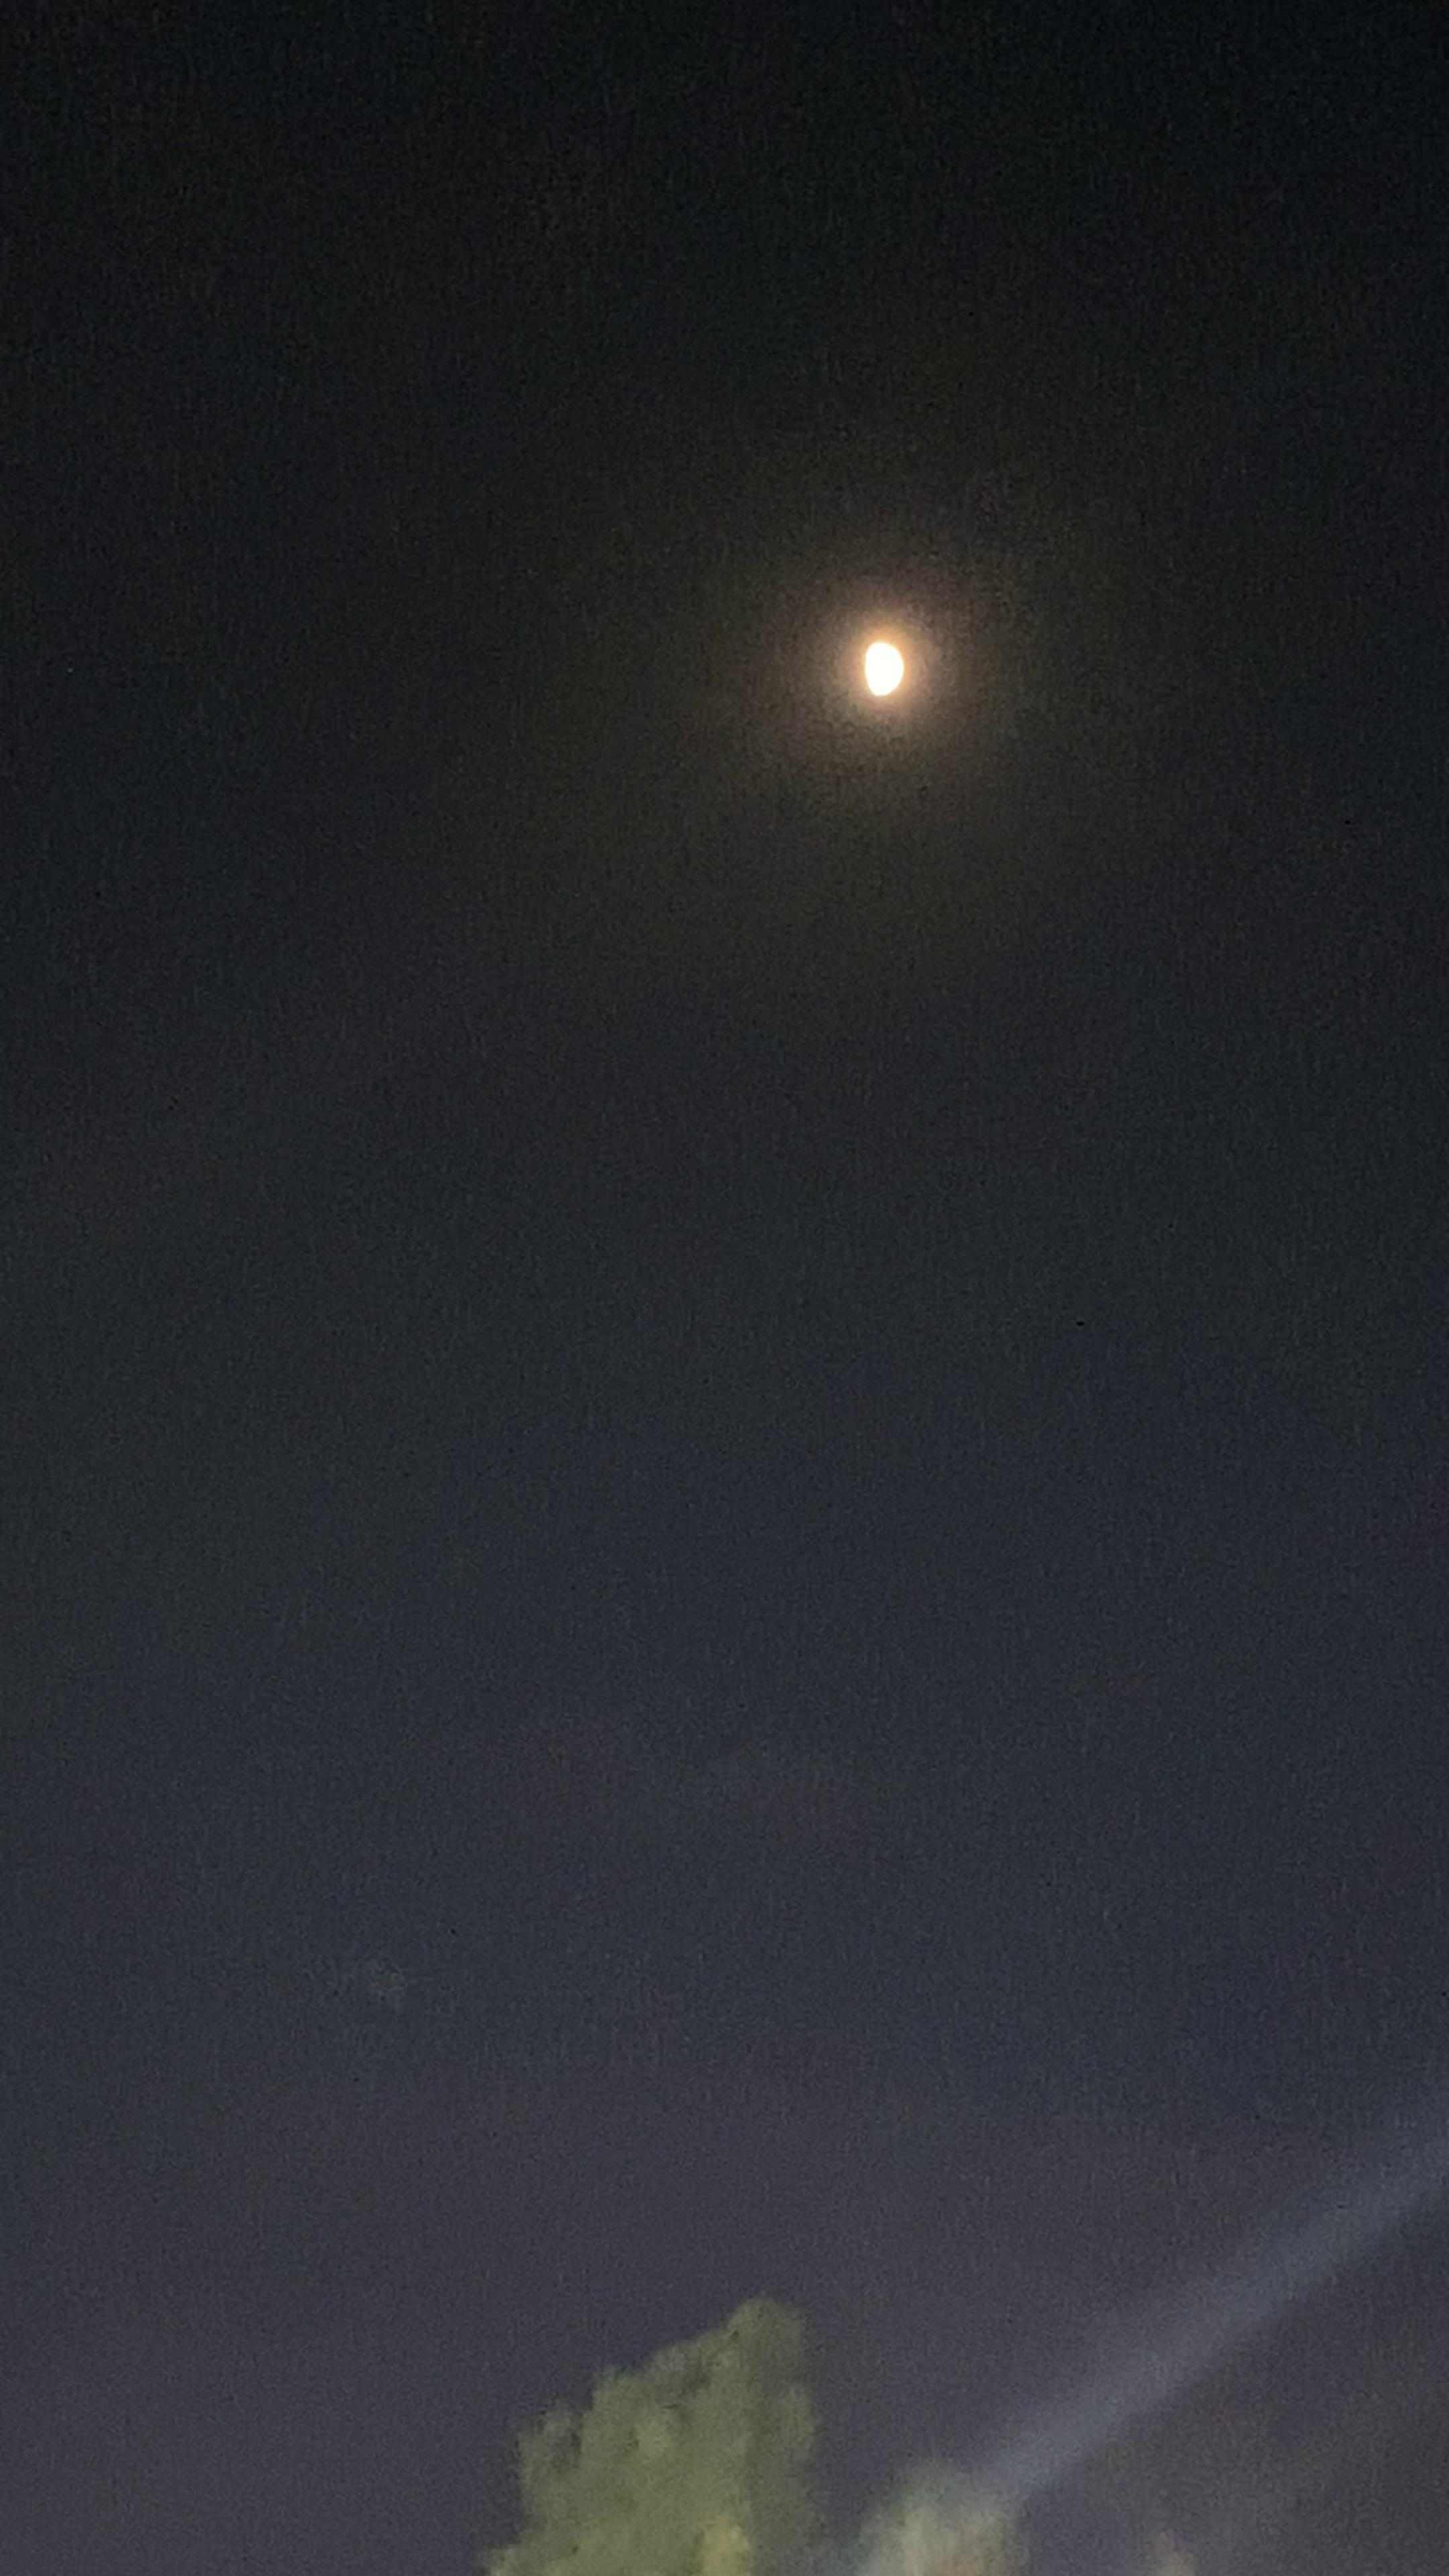moon: (833, 591, 950, 720)
